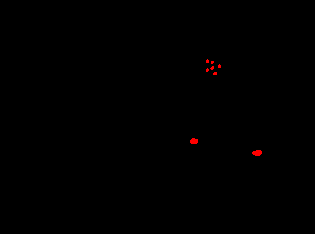Target: (252, 150, 262, 156), (190, 138, 198, 144), (210, 66, 214, 70), (206, 59, 209, 63), (218, 64, 221, 68), (206, 68, 209, 72), (213, 72, 217, 75), (211, 61, 214, 64)
